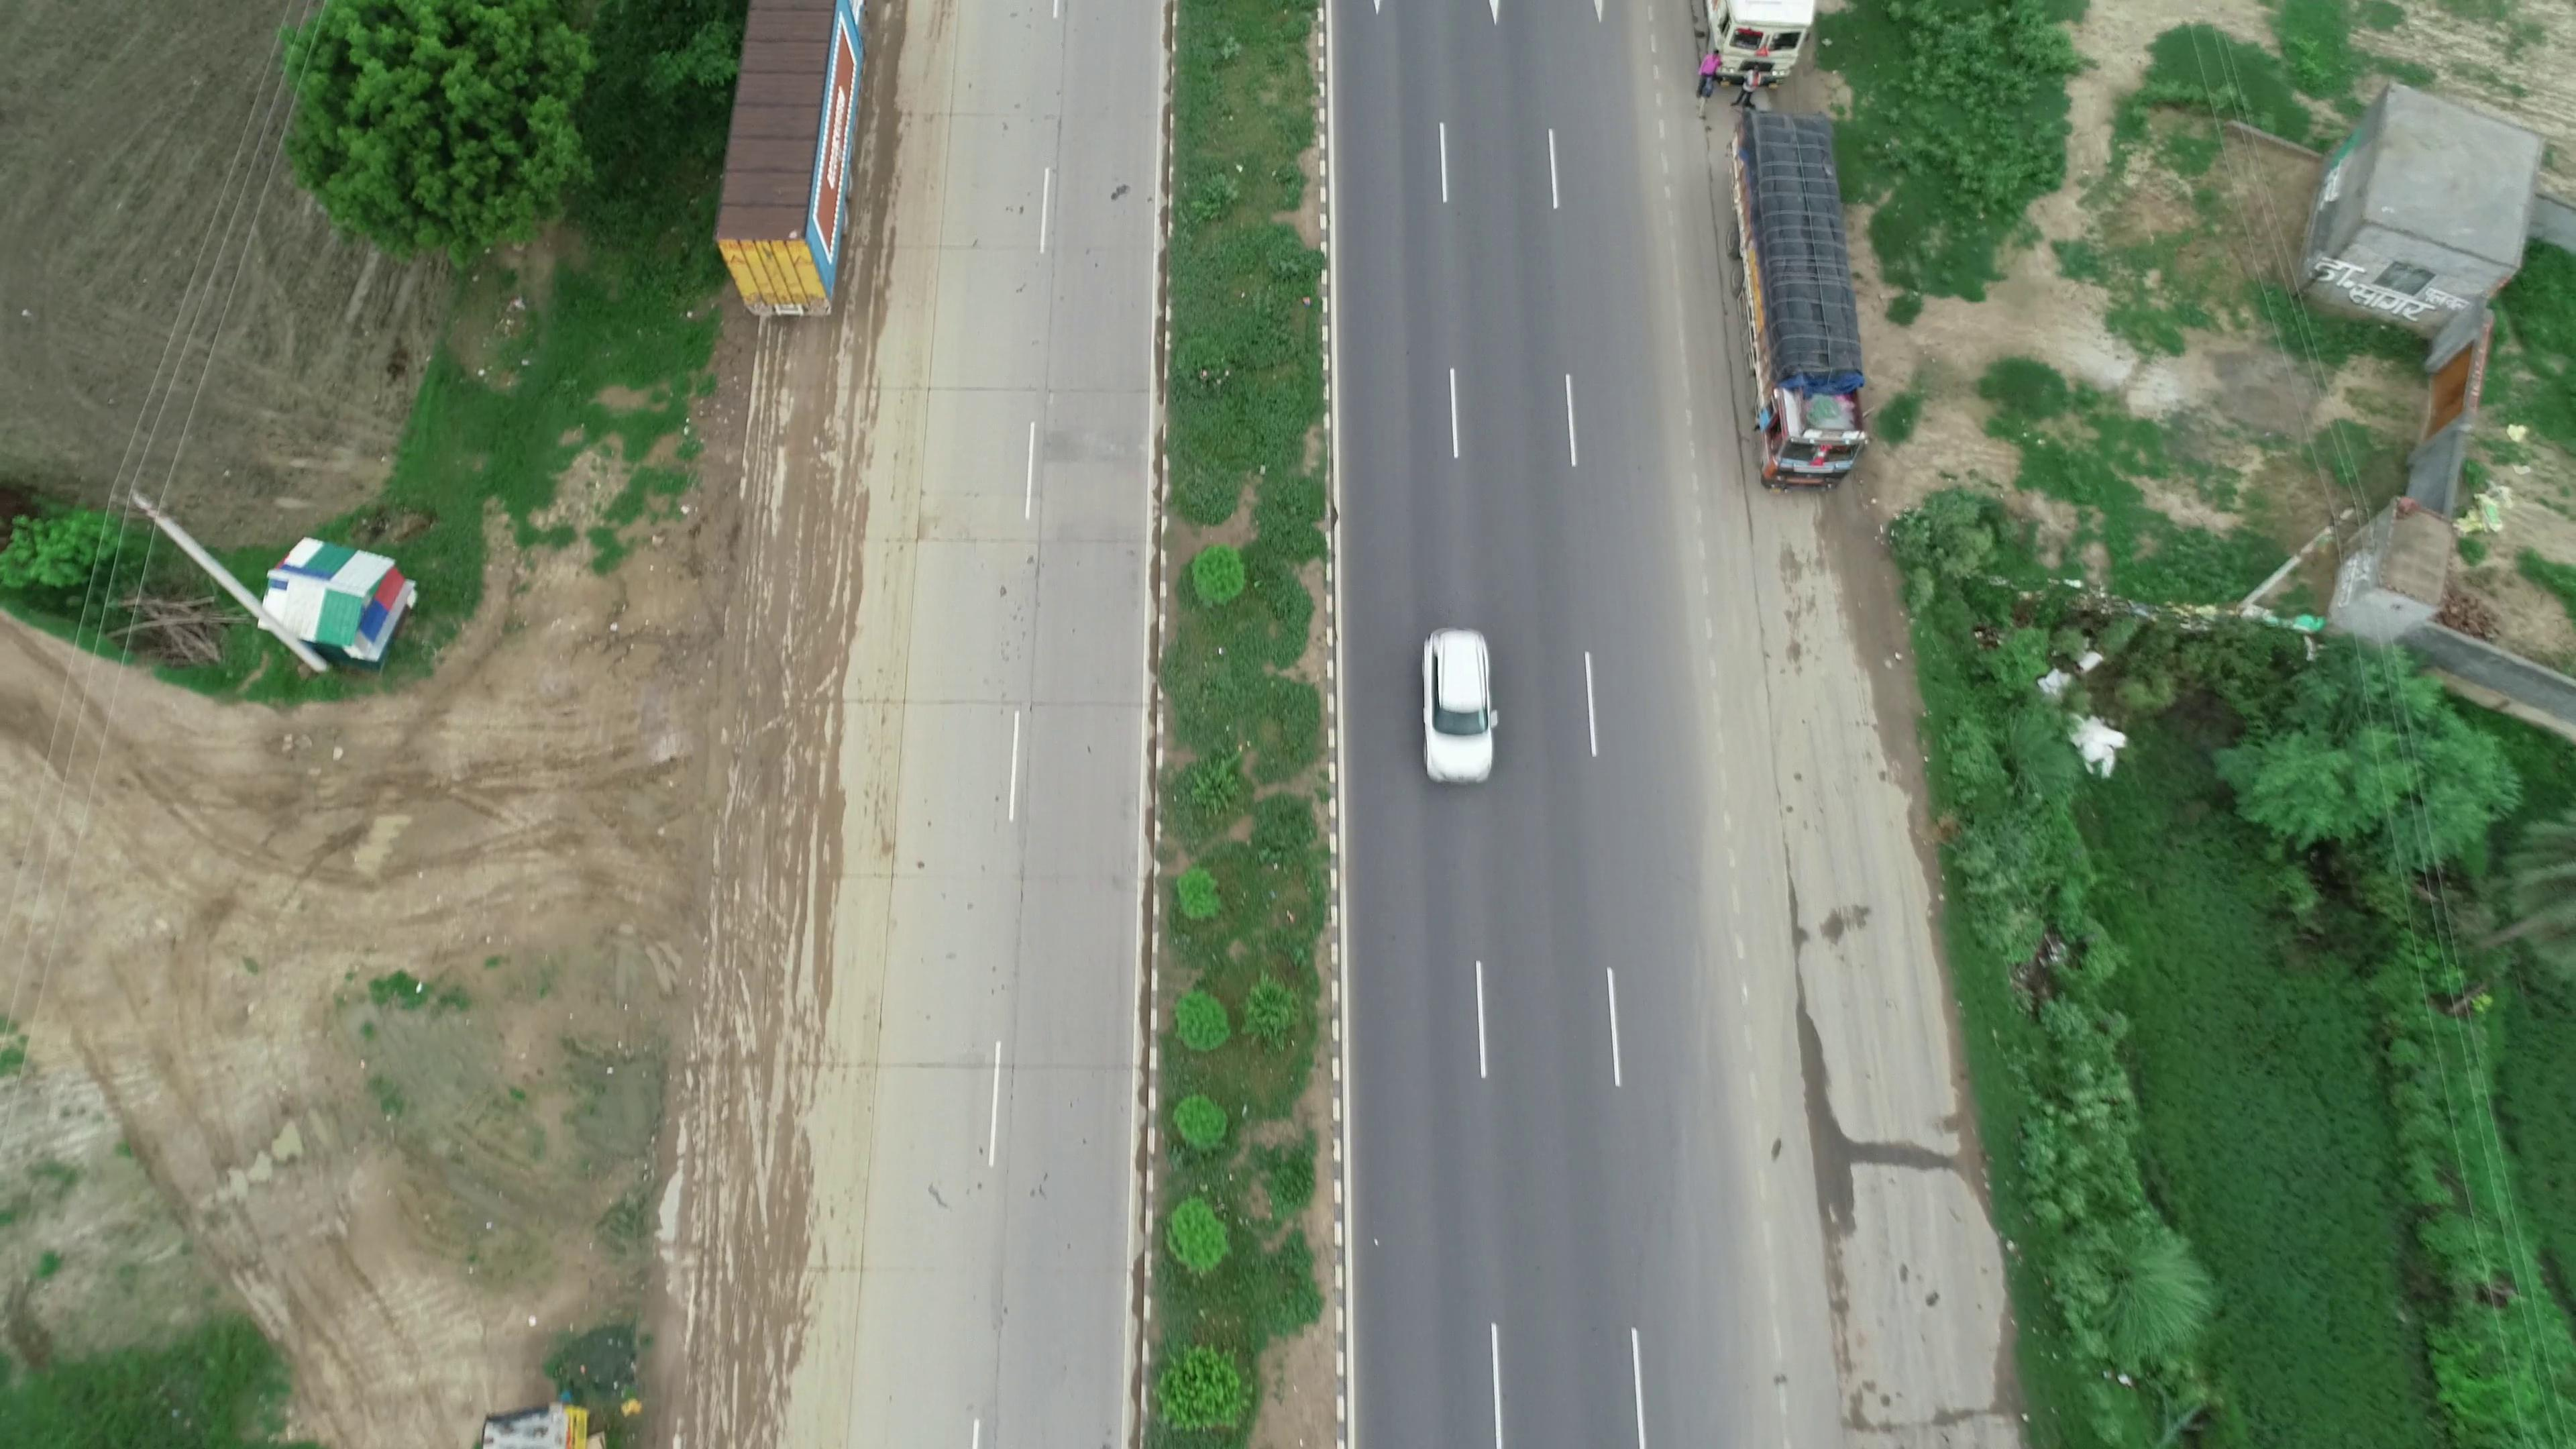Muddy_road: (669, 897, 874, 1424), (727, 455, 906, 883)
